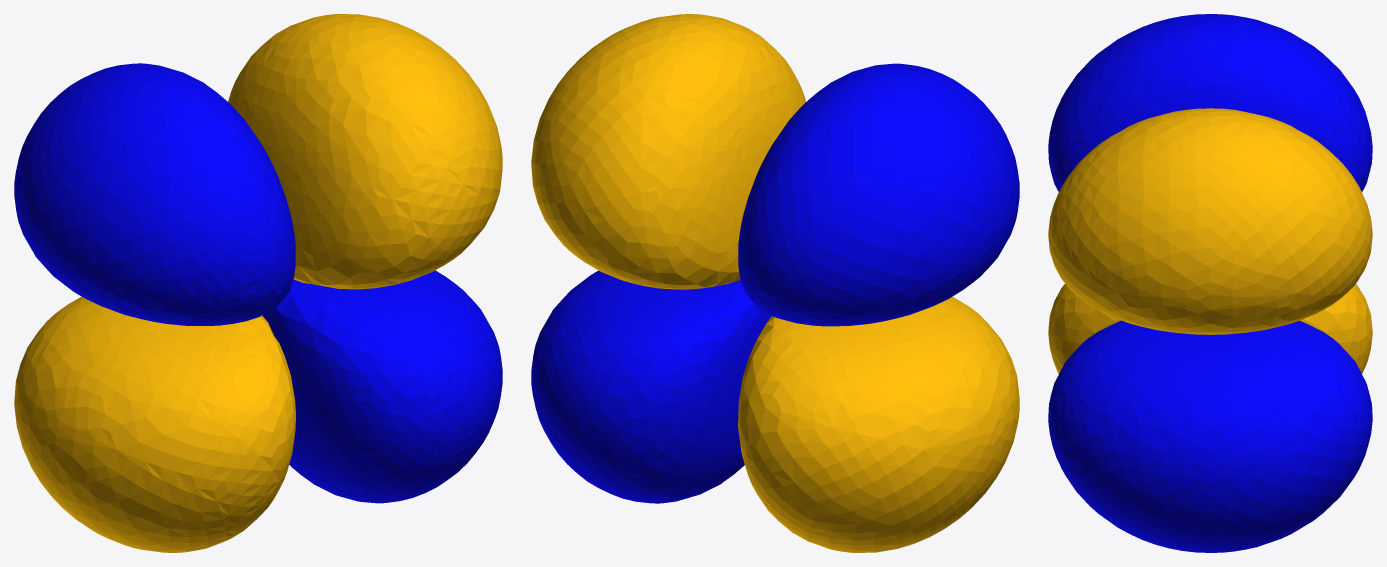
3 renders of one model, left to right at view 1: azimuth 30°, elevation 25°; view 2: azimuth 150°, elevation 25°; view 3: azimuth 270°, elevation 25°, orthographic. The views are drawn at different scales.
Size of the model in its own units: 16.06 by 16.06 by 11.09.
